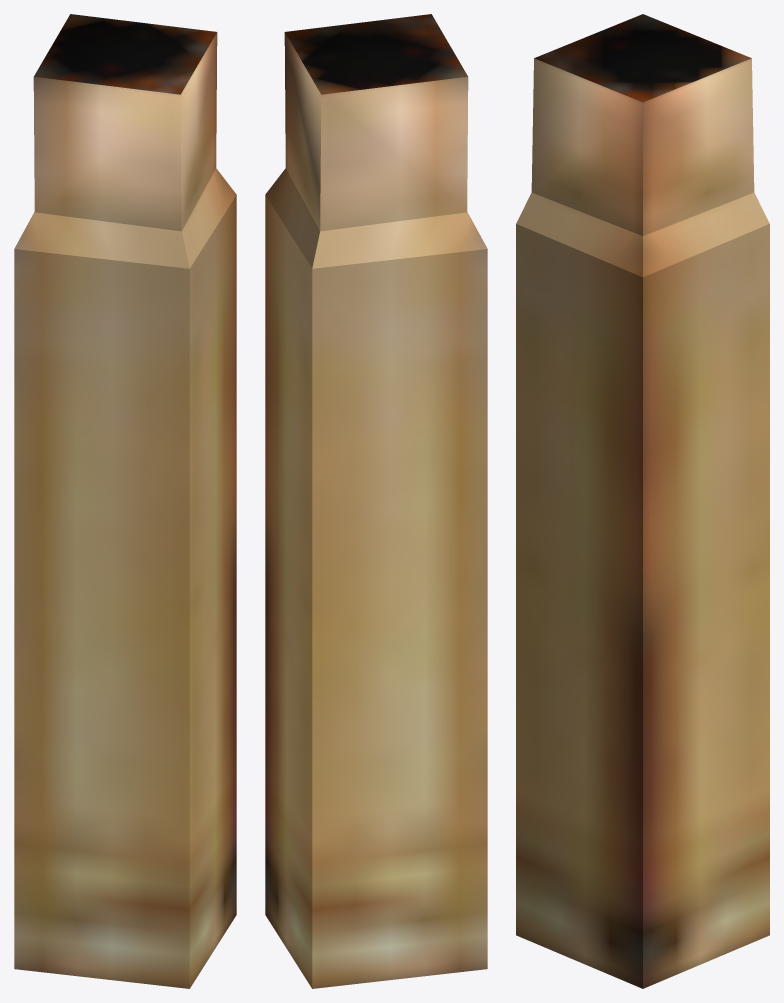
Rendered from ak_casing.glb.
3 views of the same model, side by side, from view 1: azimuth 30°, elevation 25°; view 2: azimuth 150°, elevation 25°; view 3: azimuth 270°, elevation 25° (orthographic).
Parts seen in each view (by area): view 1: 762x39_BulletEmpty; view 2: 762x39_BulletEmpty; view 3: 762x39_BulletEmpty.
Boxes of the visible parts, x1,y1,x2,y2 form: 762x39_BulletEmpty: [14, 14, 236, 988]; 762x39_BulletEmpty: [265, 14, 487, 988]; 762x39_BulletEmpty: [516, 14, 769, 988].
Size of the model in its own units: 0.053 by 0.2022 by 0.053.
Materials: 1 (1 with a texture image).
